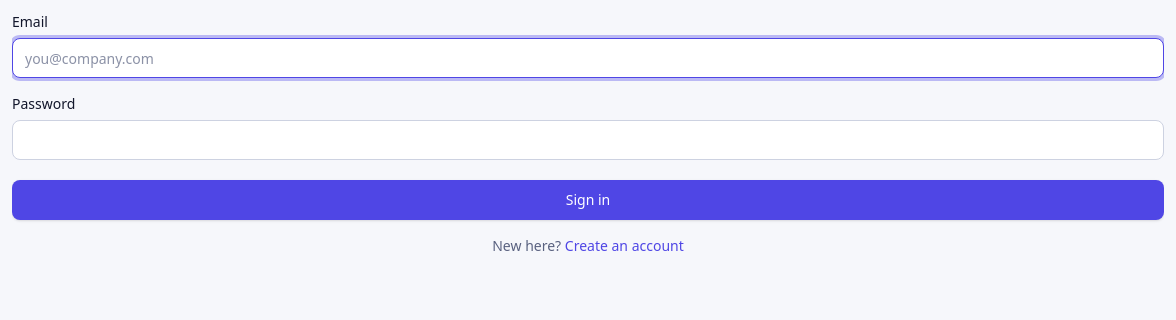
sign in form › a network failure never leaks a stack trace
The width and height of the screenshot is (1176, 320).
Type "me@x.co" into the field labelled "Email". click: (588, 58)
box: left=12, top=38, right=1164, bottom=78
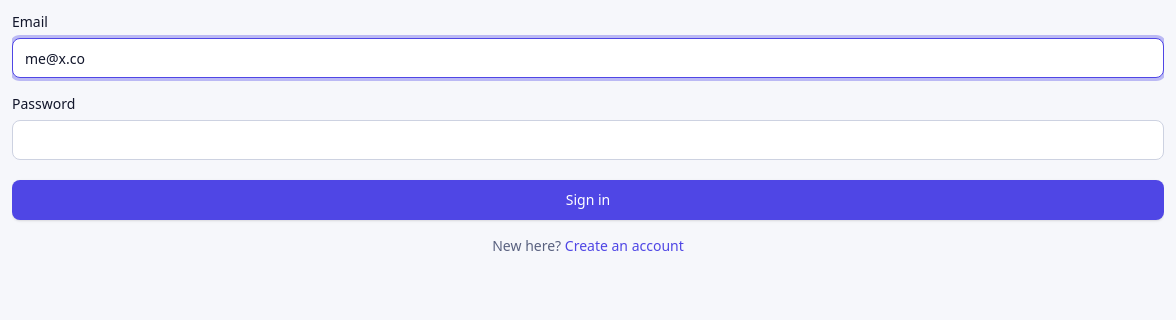
Type "whatever-pass" into the password field labelled "Password". click: (588, 140)
box: left=12, top=120, right=1164, bottom=160
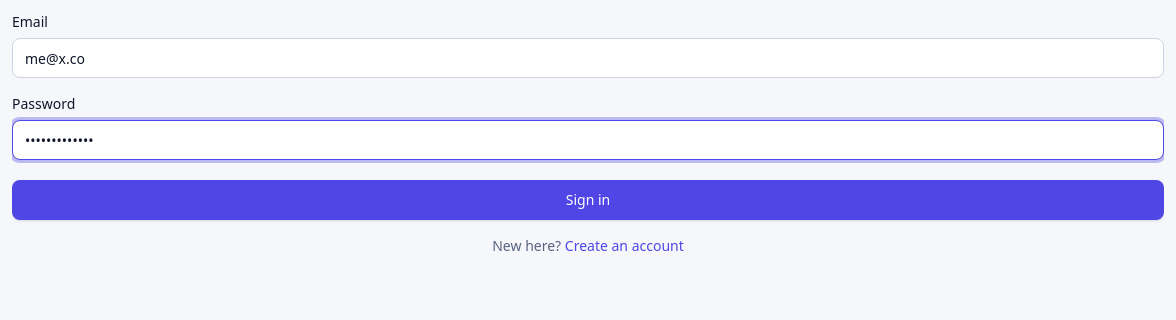
Click the button "Sign in". click: click(588, 200)
box: left=12, top=180, right=1164, bottom=220
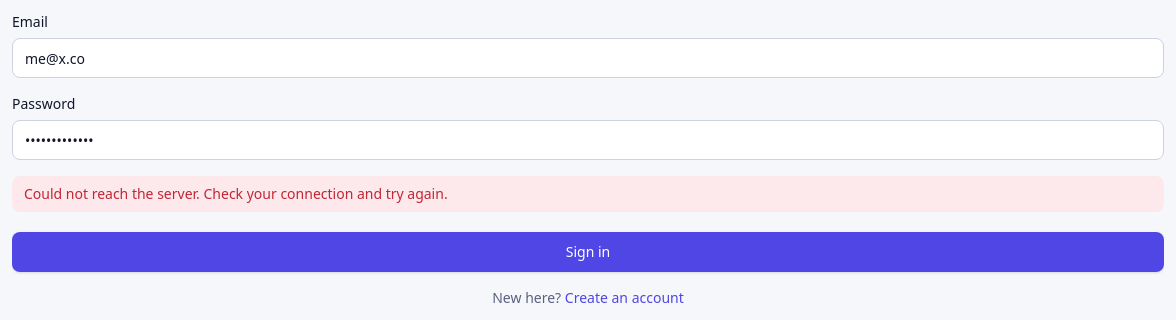
Expected: the message shows "Could not reach the server", left=24, top=184, right=448, bottom=203
